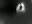person: (22, 2, 26, 16), (17, 4, 21, 15)
